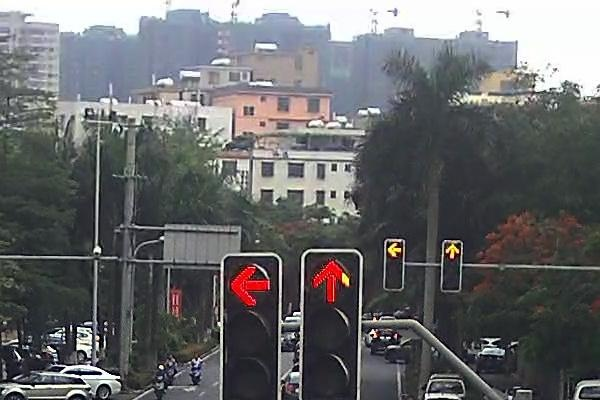redleft: (222, 256, 279, 307), (384, 239, 404, 258)
redstraight: (302, 252, 361, 303), (443, 241, 462, 261)
